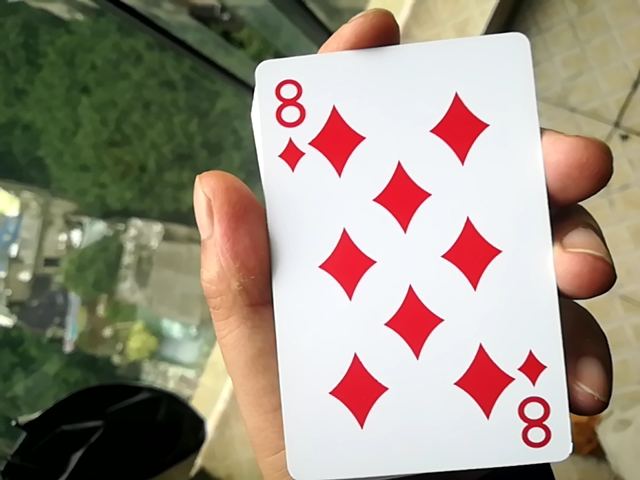fk 8: (241, 41, 569, 473)
